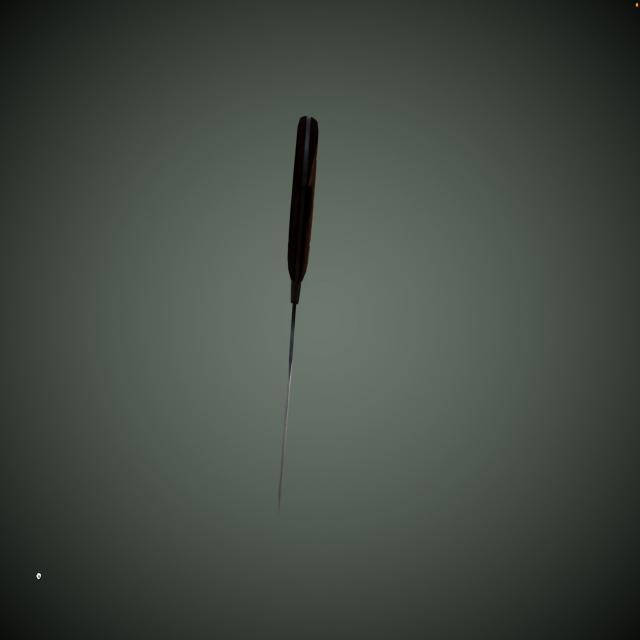cleaver: (269, 114, 325, 510)
